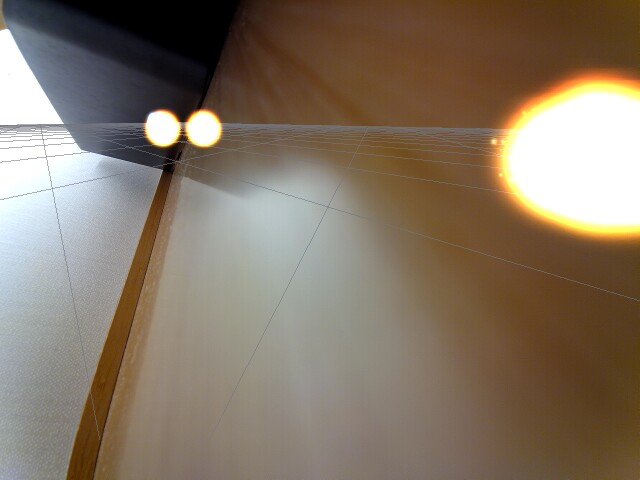firebig: (481, 59, 640, 262)
